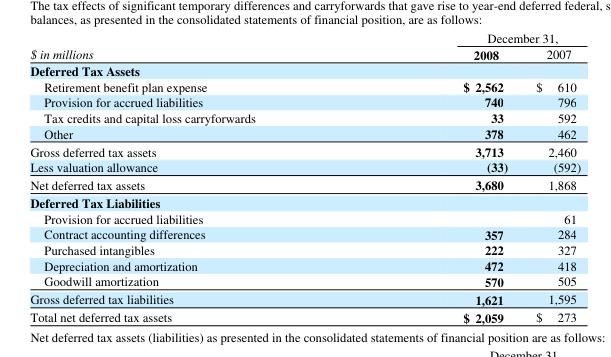table: (29, 28, 580, 325)
table column: (29, 28, 358, 325), (358, 28, 521, 325), (521, 28, 580, 325)
table column header: (29, 28, 580, 62)
table projected row header: (29, 193, 580, 210), (29, 62, 580, 78)
table row: (29, 175, 580, 193), (29, 290, 580, 308), (29, 28, 580, 45), (29, 45, 580, 62), (29, 125, 580, 142), (29, 158, 580, 175), (29, 193, 580, 210), (29, 273, 580, 290), (29, 308, 580, 325), (29, 62, 580, 78), (29, 93, 580, 109), (29, 109, 580, 125), (29, 142, 580, 158), (29, 225, 580, 241), (29, 241, 580, 257), (29, 257, 580, 273), (29, 78, 580, 93), (29, 210, 580, 225)
table spanning cell: (29, 28, 358, 62), (358, 28, 580, 45)
